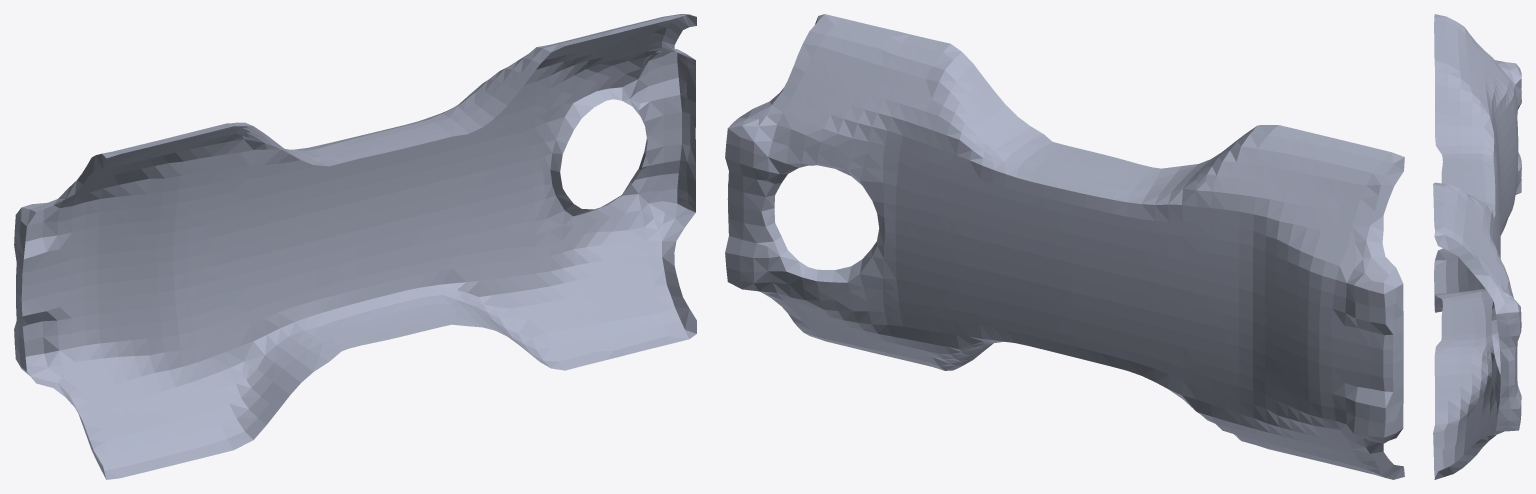
The model's file is bottom_shell.obj.
3 renders of one model, left to right at view 1: azimuth 30°, elevation 25°; view 2: azimuth 150°, elevation 25°; view 3: azimuth 270°, elevation 25°, orthographic. The views are drawn at different scales.
Visible parts, largest first — view 1: top_shell_refined-mesh; view 2: top_shell_refined-mesh; view 3: top_shell_refined-mesh.
Boxes of the visible parts, x1=… form: top_shell_refined-mesh: x1=14, y1=14, x2=696, y2=479; top_shell_refined-mesh: x1=725, y1=14, x2=1404, y2=479; top_shell_refined-mesh: x1=1433, y1=14, x2=1521, y2=479.
Size of the model in its own units: 0.7308 by 0.3367 by 0.1088.
